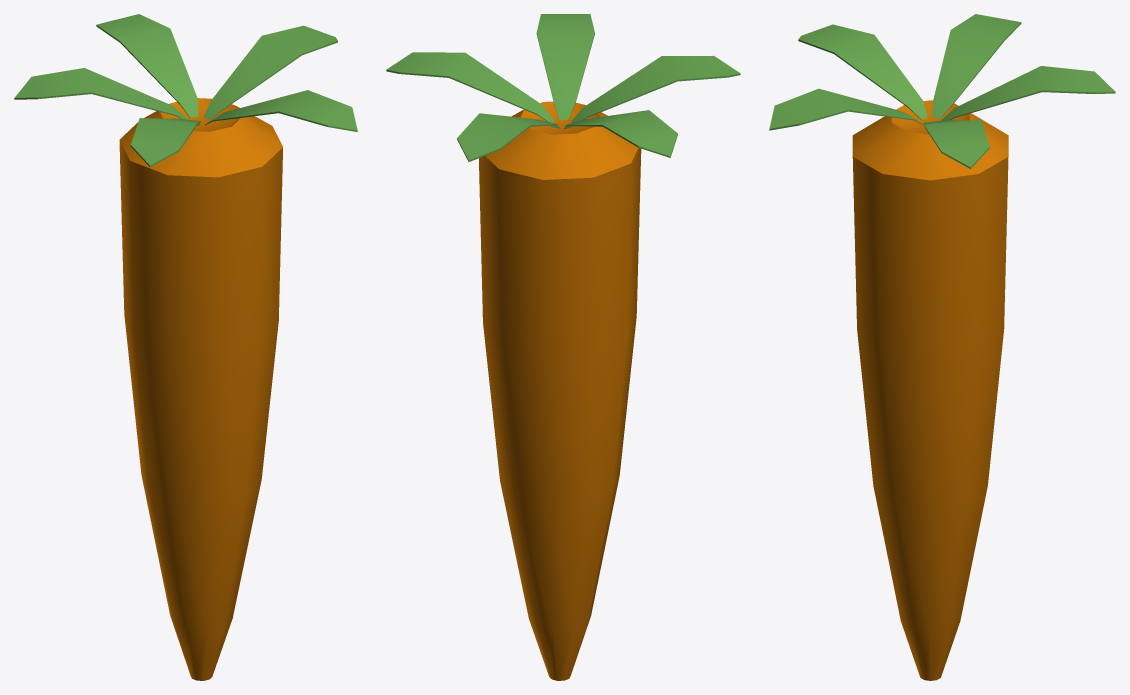
Rendered from Carrot.fbx.
The picture shows the model from 3 angles, left to right: view 1: azimuth 30°, elevation 25°; view 2: azimuth 150°, elevation 25°; view 3: azimuth 270°, elevation 25°; orthographic projection.
Parts seen in each view (by area): view 1: Carrot; view 2: Carrot; view 3: Carrot.
Part boxes in pixels (x1=…): Carrot: x1=14, y1=14, x2=357, y2=680; Carrot: x1=386, y1=14, x2=740, y2=680; Carrot: x1=769, y1=14, x2=1115, y2=680.
Size of the model in its own units: 0.0876 by 0.1656 by 0.0869.
